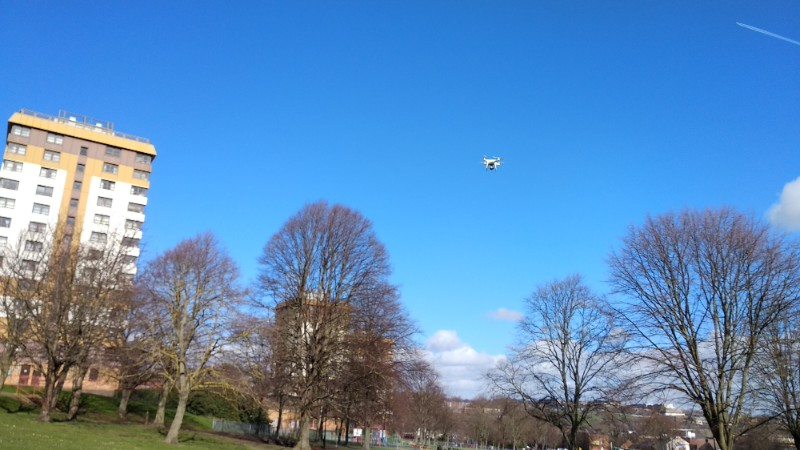drone: (481, 155, 503, 173)
